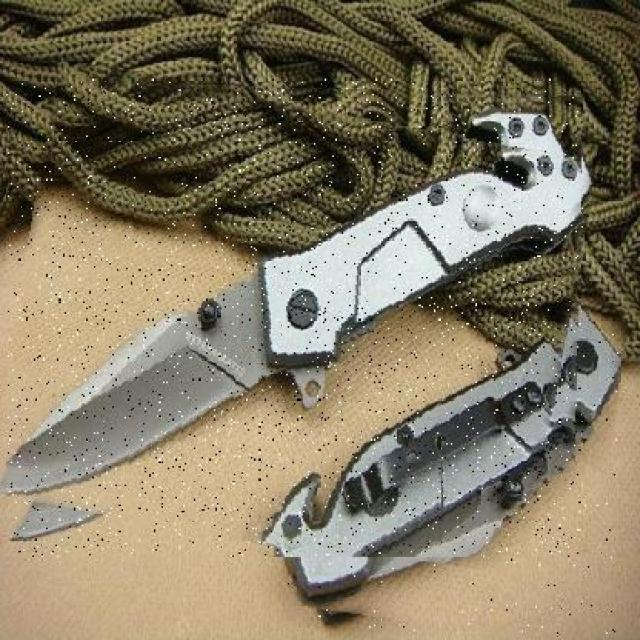knife: (6, 78, 583, 557), (287, 274, 618, 635)
